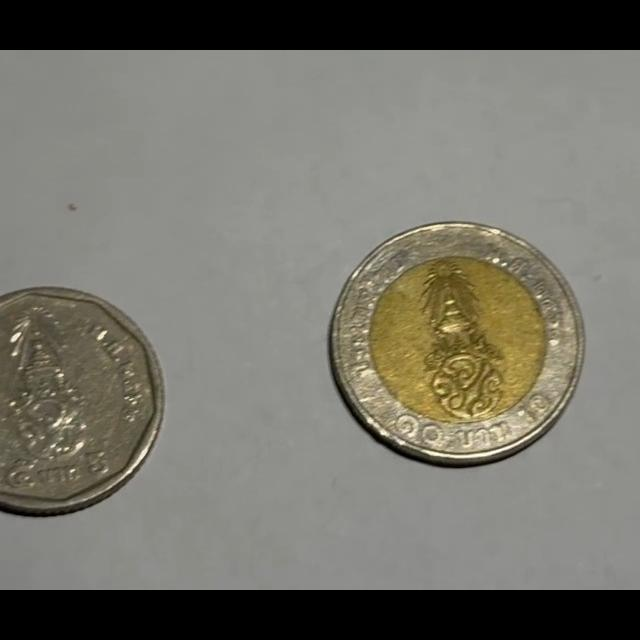10-baht: (329, 221, 583, 465)
5-baht: (0, 286, 164, 515)
